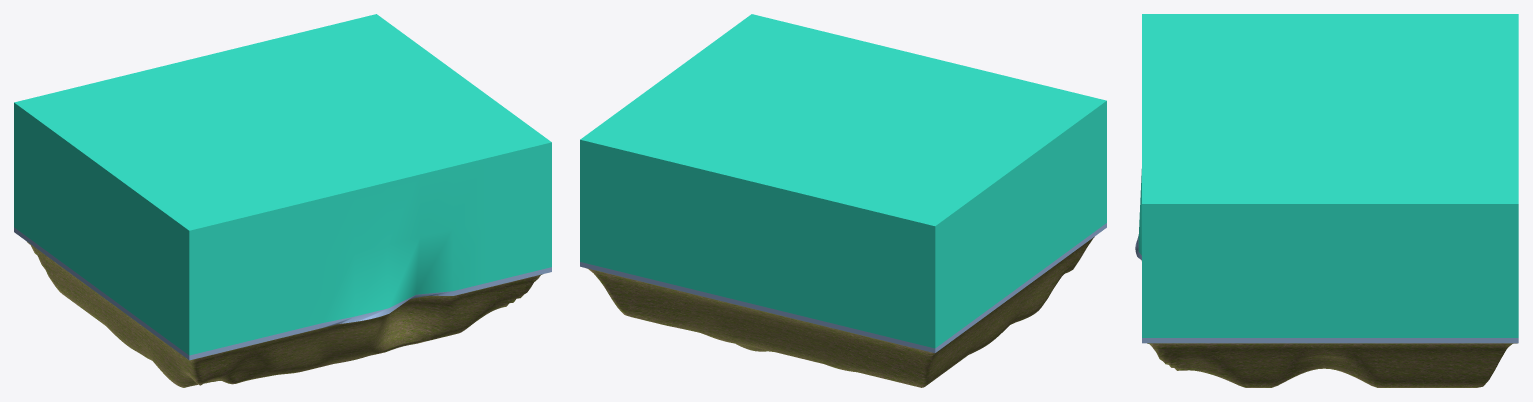
The model's file is map.obj.
The picture shows the model from 3 angles, left to right: view 1: azimuth 30°, elevation 25°; view 2: azimuth 150°, elevation 25°; view 3: azimuth 270°, elevation 25°; orthographic projection. The views are drawn at different scales.
Parts seen in each view (by area): view 1: Box001; view 2: Box001; view 3: Box001.
Boxes of the visible parts, x1,y1,x2,y2 form: Box001: (14,14,551,387); Box001: (580,14,1106,387); Box001: (1135,14,1518,387).
Bounding box in the file's own units: 610 × 341 × 520.
3 materials, 1 textured.
